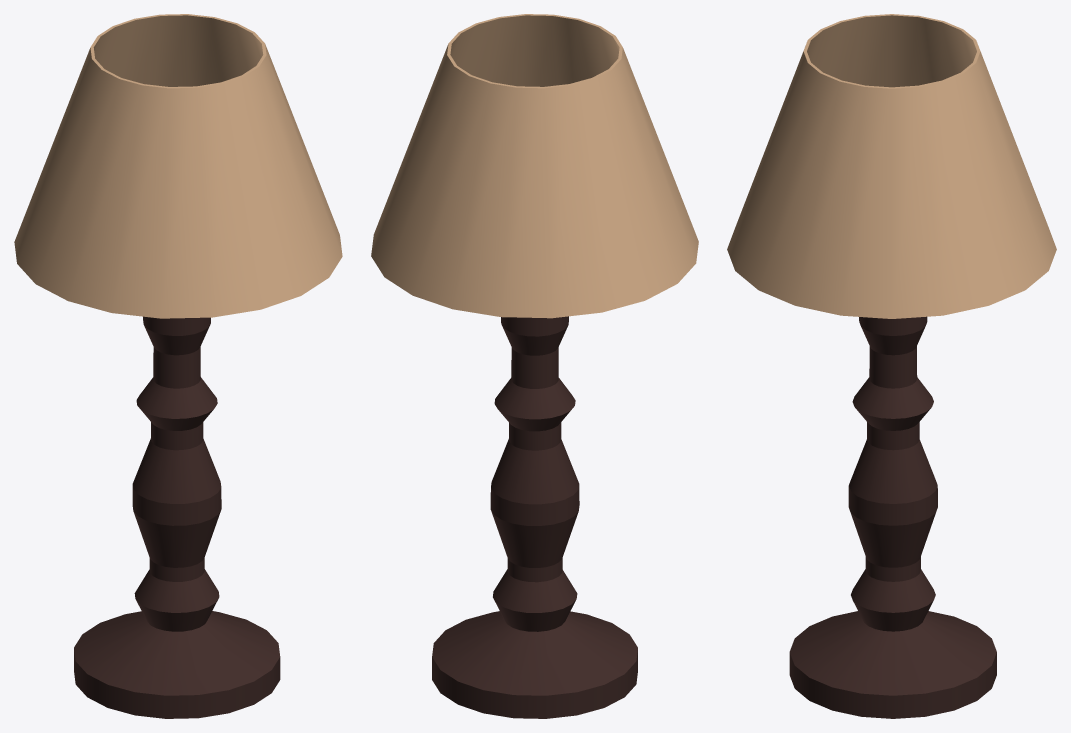
Rendered from LampeChevet1_8.fbx.
3 views of the same model, side by side, from view 1: azimuth 30°, elevation 25°; view 2: azimuth 150°, elevation 25°; view 3: azimuth 270°, elevation 25° (orthographic).
Parts seen in each view (by area): view 1: pPipe38, pCylinder230; view 2: pPipe38, pCylinder230; view 3: pPipe38, pCylinder230.
Boxes of the visible parts, box(x1,y1,x2,y2) form: pPipe38: box(14, 14, 342, 318); pCylinder230: box(74, 316, 280, 718); pPipe38: box(371, 14, 698, 318); pCylinder230: box(432, 316, 637, 718); pPipe38: box(727, 14, 1056, 318); pCylinder230: box(789, 316, 996, 718).
Size of the model in its own units: 15.07 by 31.45 by 15.07.
